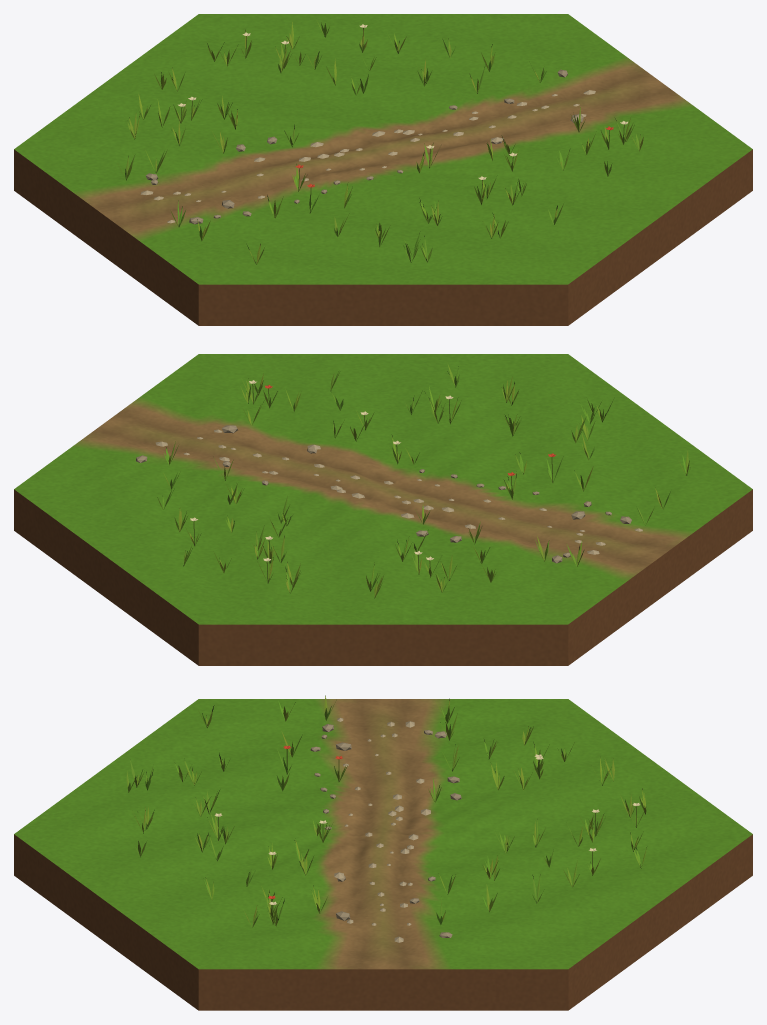
Rendered from SM_CaminoNatural_Recto_Detalle_LOD0.fbx.
3 renders of one model, top to bottom at view 1: azimuth 30°, elevation 25°; view 2: azimuth 150°, elevation 25°; view 3: azimuth 270°, elevation 25°, orthographic.
Visible parts, largest first — view 1: SM_CaminoNatural_Recto_Detalle_LOD0; view 2: SM_CaminoNatural_Recto_Detalle_LOD0; view 3: SM_CaminoNatural_Recto_Detalle_LOD0.
Boxes of the visible parts, box(x1,y1,x2,y2) form: SM_CaminoNatural_Recto_Detalle_LOD0: box(14, 14, 752, 325); SM_CaminoNatural_Recto_Detalle_LOD0: box(14, 354, 752, 665); SM_CaminoNatural_Recto_Detalle_LOD0: box(14, 695, 752, 1010).
Size of the model in its own units: 1.68 by 0.2021 by 1.94.
Materials: 1 (1 with a texture image).
